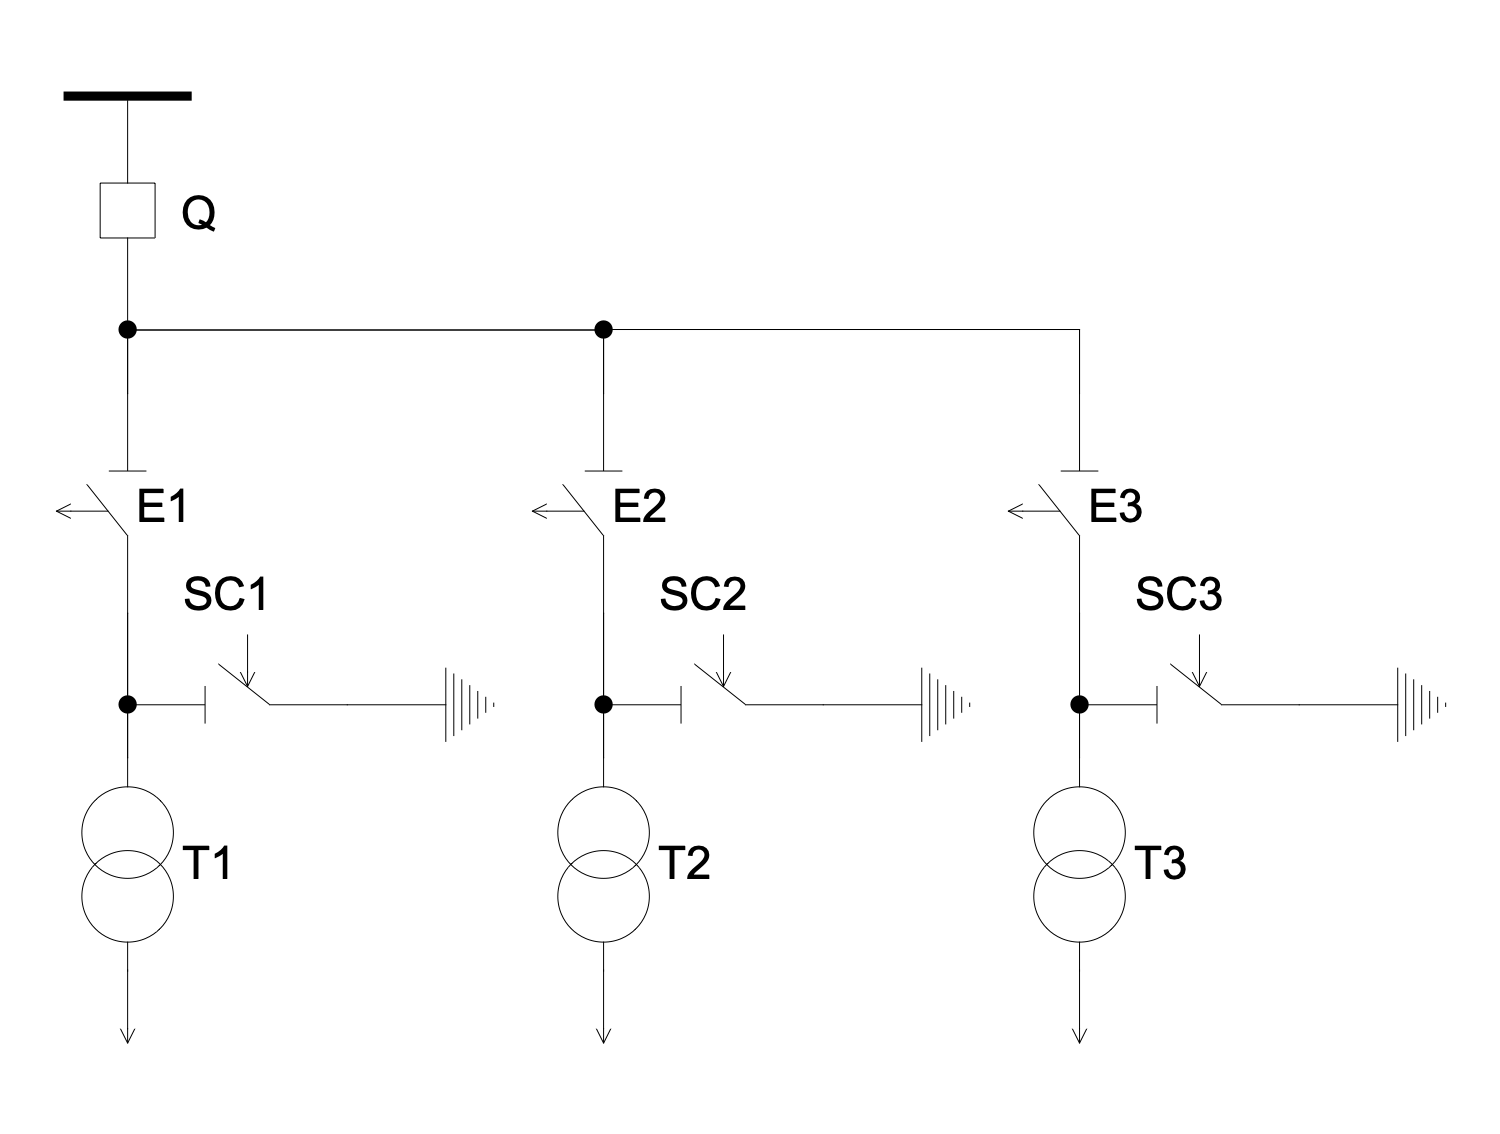ground: (877, 635, 1008, 771), (394, 639, 526, 770), (1350, 642, 1474, 774)
switch: (1004, 444, 1145, 578), (163, 634, 300, 760), (538, 430, 668, 562), (1133, 649, 1290, 758), (69, 436, 185, 582), (659, 639, 783, 761)
